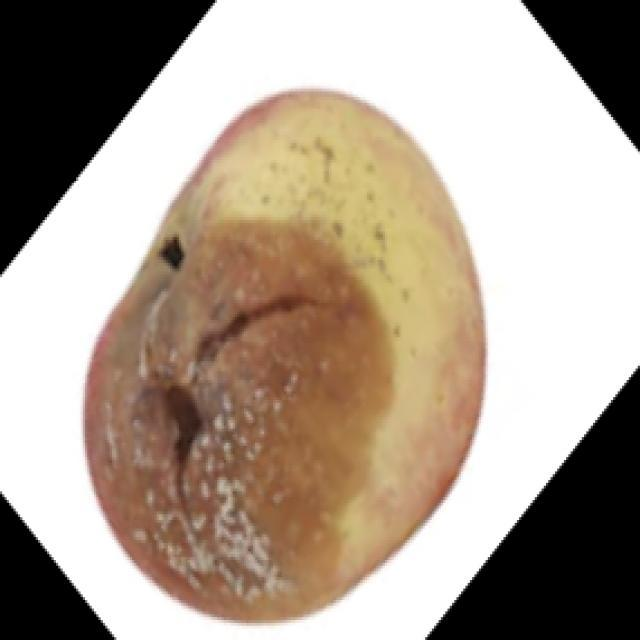Rotten: (75, 90, 500, 617)
